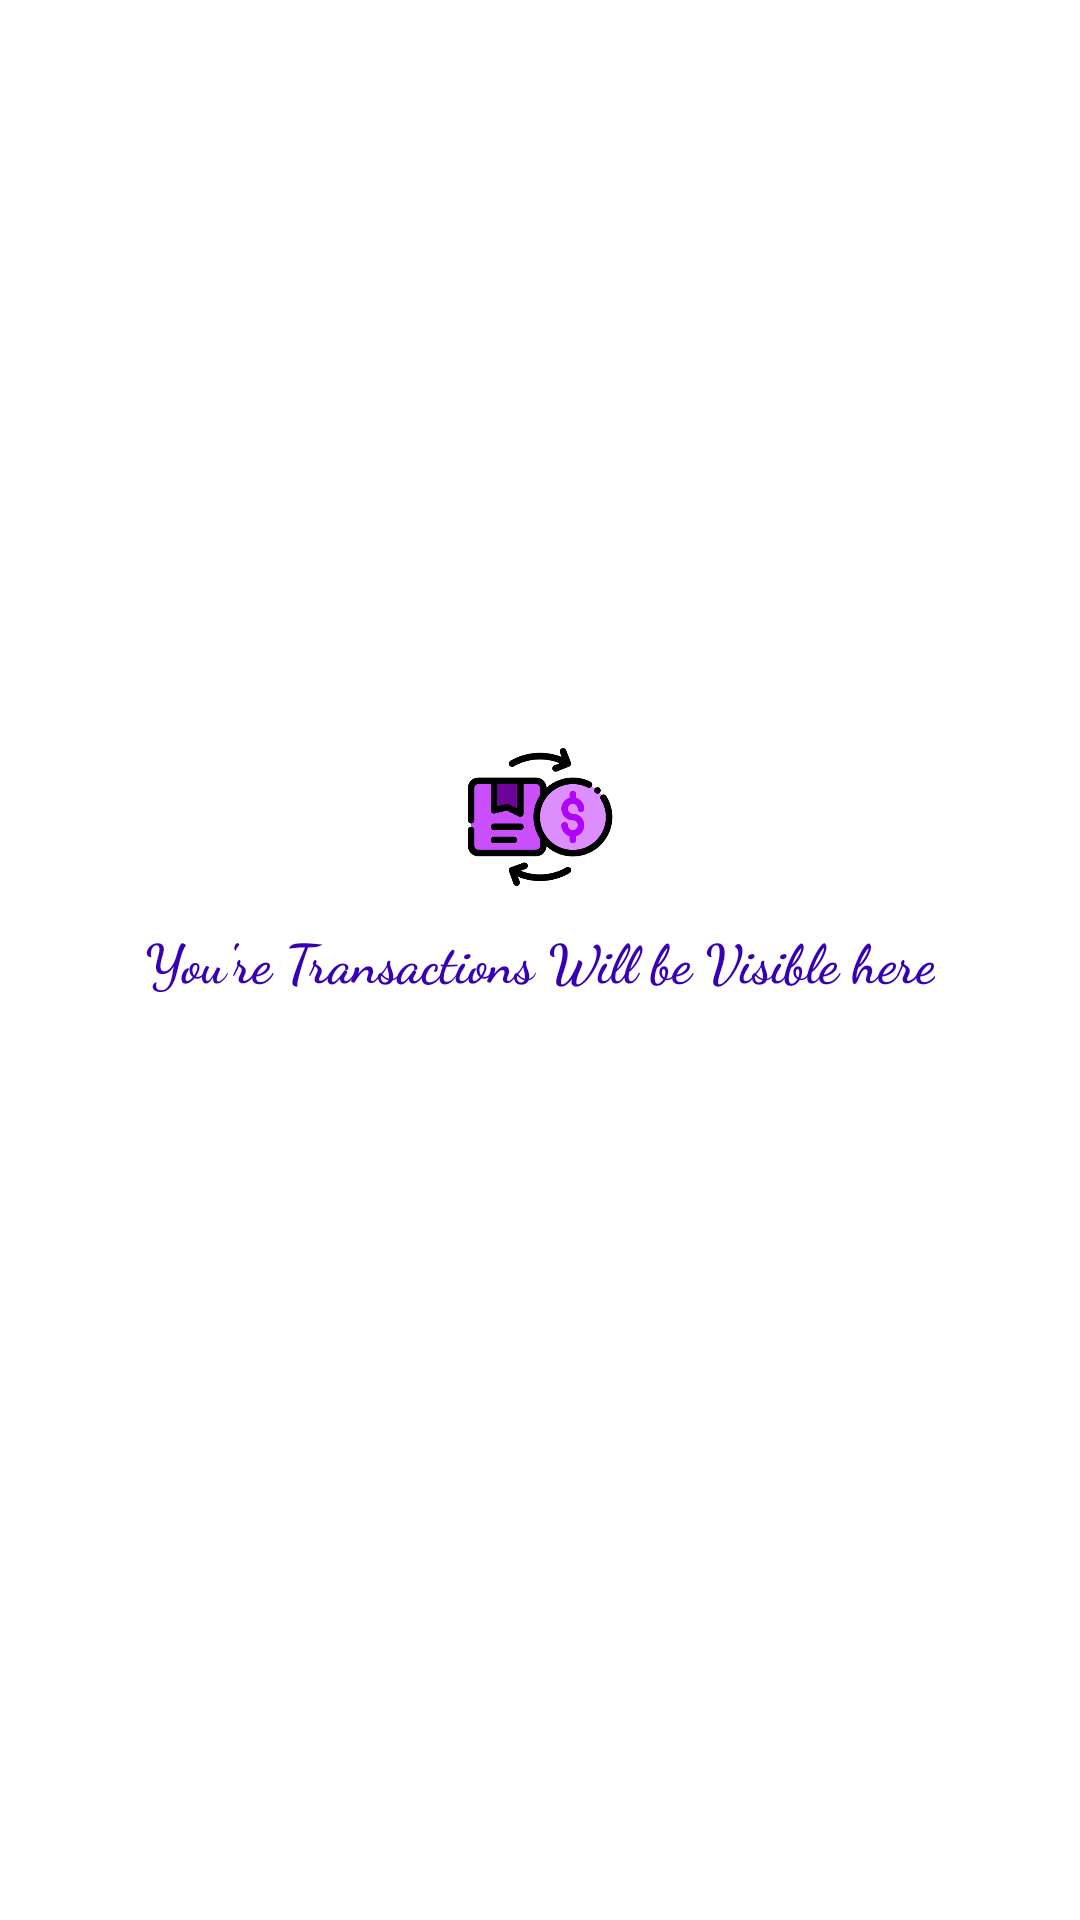

Icons on this 1080*1920 Android screen, each with the point to tap as point (x, y):
trans fbg: point (540, 817)
